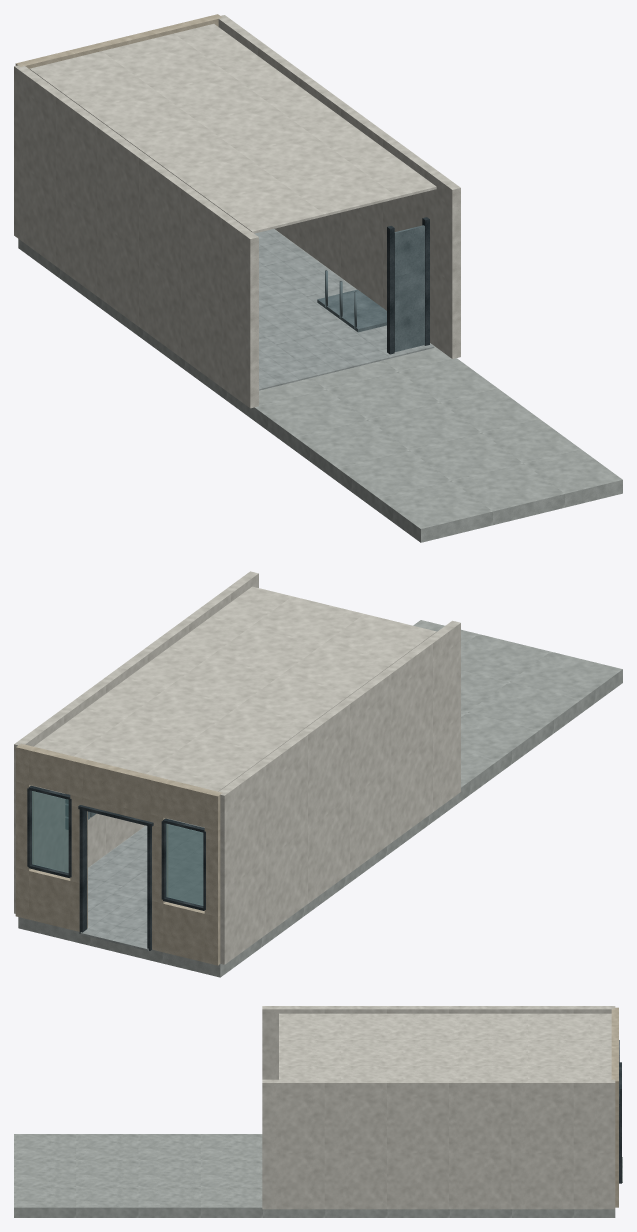
The picture shows the model from 3 angles, top to bottom: view 1: azimuth 30°, elevation 25°; view 2: azimuth 150°, elevation 25°; view 3: azimuth 270°, elevation 25°; orthographic projection. The views are drawn at different scales.
Visible parts, largest first — view 1: VIS_Lobby_Side_L_wall_0_0_0038, VIS_Ground_Slab_0000, VIS_Ceiling_Underside_0040, VIS_Lobby_Side_R_wall_0_0_0039, VIS_Lobby_Tile_Finish_0001, VIS_Lift_Dummy_Panel_0062, VIS_Bicycle_Rack_Base_0056, VIS_Lift_Portal_L_0060; view 2: VIS_Lobby_Side_L_wall_0_0_0038, VIS_Ceiling_Underside_0040, VIS_Ground_Slab_0000, VIS_Lobby_Side_R_wall_0_0_0039, VIS_Lobby_Tile_Finish_0001, VIS_Lobby_Front_Glass_pane_0028, VIS_Lobby_Front_Glass_pane_0033, VIS_Front_Facade_wall_3_3_0013, VIS_Front_Facade_wall_5_0_0018, VIS_Front_Facade_wall_1_0_0006, VIS_Front_Facade_wall_5_3_0019, VIS_Front_Facade_wall_1_3_0007 (+12 smaller); view 3: VIS_Lobby_Side_R_wall_0_0_0039, VIS_Ground_Slab_0000, VIS_Ceiling_Underside_0040, VIS_Lobby_Side_L_wall_0_0_0038.
Part boxes in pixels (x1=…): VIS_Lobby_Side_L_wall_0_0_0038: x1=14, y1=64, x2=258, y2=408; VIS_Ground_Slab_0000: x1=18, y1=229, x2=622, y2=542; VIS_Ceiling_Underside_0040: x1=30, y1=24, x2=436, y2=233; VIS_Lobby_Side_R_wall_0_0_0039: x1=218, y1=15, x2=460, y2=358; VIS_Lobby_Tile_Finish_0001: x1=254, y1=229, x2=434, y2=390; VIS_Lift_Dummy_Panel_0062: x1=394, y1=225, x2=424, y2=351; VIS_Bicycle_Rack_Base_0056: x1=317, y1=289, x2=386, y2=332; VIS_Lift_Portal_L_0060: x1=387, y1=226, x2=394, y2=354; VIS_Lobby_Side_L_wall_0_0_0038: x1=219, y1=620, x2=460, y2=964; VIS_Ceiling_Underside_0040: x1=34, y1=586, x2=436, y2=791; VIS_Ground_Slab_0000: x1=18, y1=620, x2=622, y2=977; VIS_Lobby_Side_R_wall_0_0_0039: x1=14, y1=571, x2=258, y2=913; VIS_Lobby_Tile_Finish_0001: x1=87, y1=819, x2=204, y2=942; VIS_Lobby_Front_Glass_pane_0028: x1=166, y1=824, x2=203, y2=905; VIS_Lobby_Front_Glass_pane_0033: x1=32, y1=791, x2=68, y2=872; VIS_Front_Facade_wall_3_3_0013: x1=83, y1=760, x2=155, y2=814; VIS_Front_Facade_wall_5_0_0018: x1=29, y1=869, x2=70, y2=929; VIS_Front_Facade_wall_1_0_0006: x1=163, y1=902, x2=204, y2=962; VIS_Front_Facade_wall_5_3_0019: x1=29, y1=747, x2=74, y2=794; VIS_Front_Facade_wall_1_3_0007: x1=163, y1=779, x2=209, y2=827; VIS_Lobby_Side_R_wall_0_0_0039: x1=262, y1=1079, x2=615, y2=1209; VIS_Ground_Slab_0000: x1=14, y1=1134, x2=615, y2=1217; VIS_Ceiling_Underside_0040: x1=279, y1=1013, x2=611, y2=1079; VIS_Lobby_Side_L_wall_0_0_0038: x1=262, y1=1006, x2=615, y2=1079.
Size of the model in its own units: 4.17 by 3.46 by 13.98.
9 materials, 9 textured.
